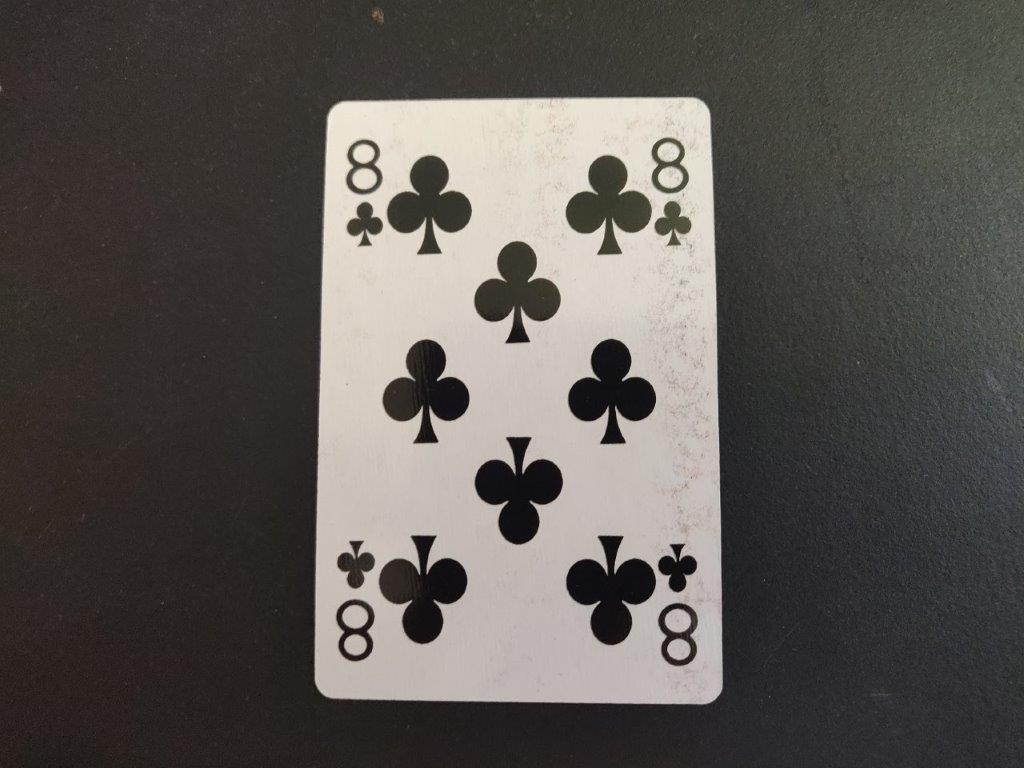8C: (650, 135, 696, 253), (341, 137, 387, 252)
